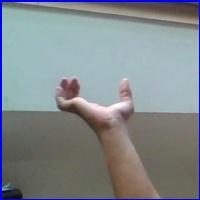B: (49, 73, 141, 126)
